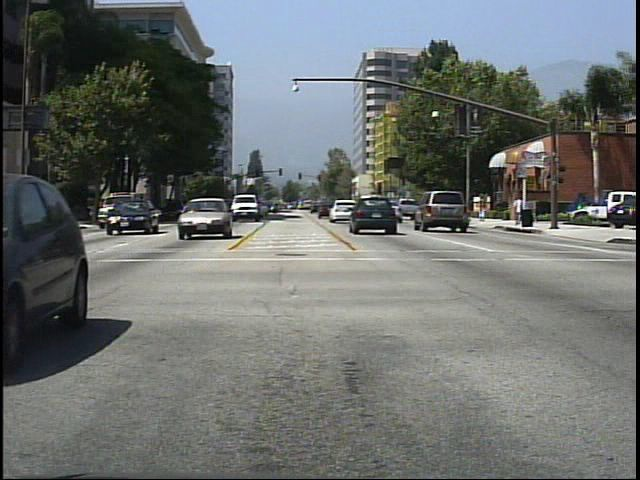person: (510, 194, 524, 229), (477, 191, 490, 224)
